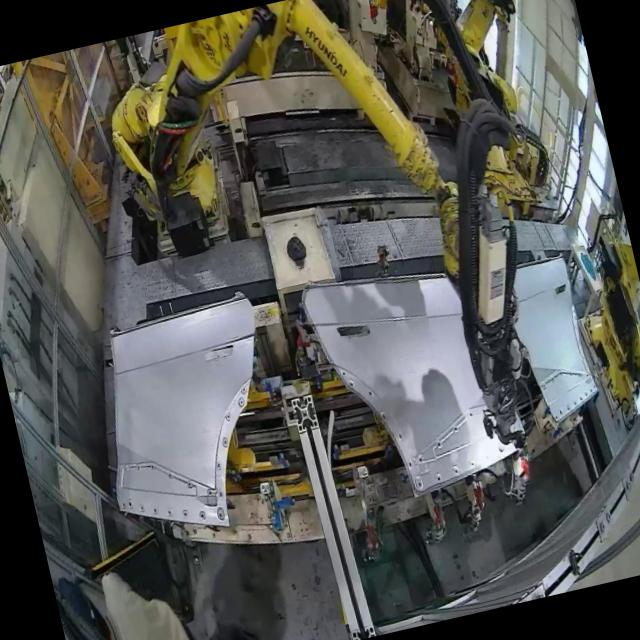Person: (49, 521, 263, 640)
